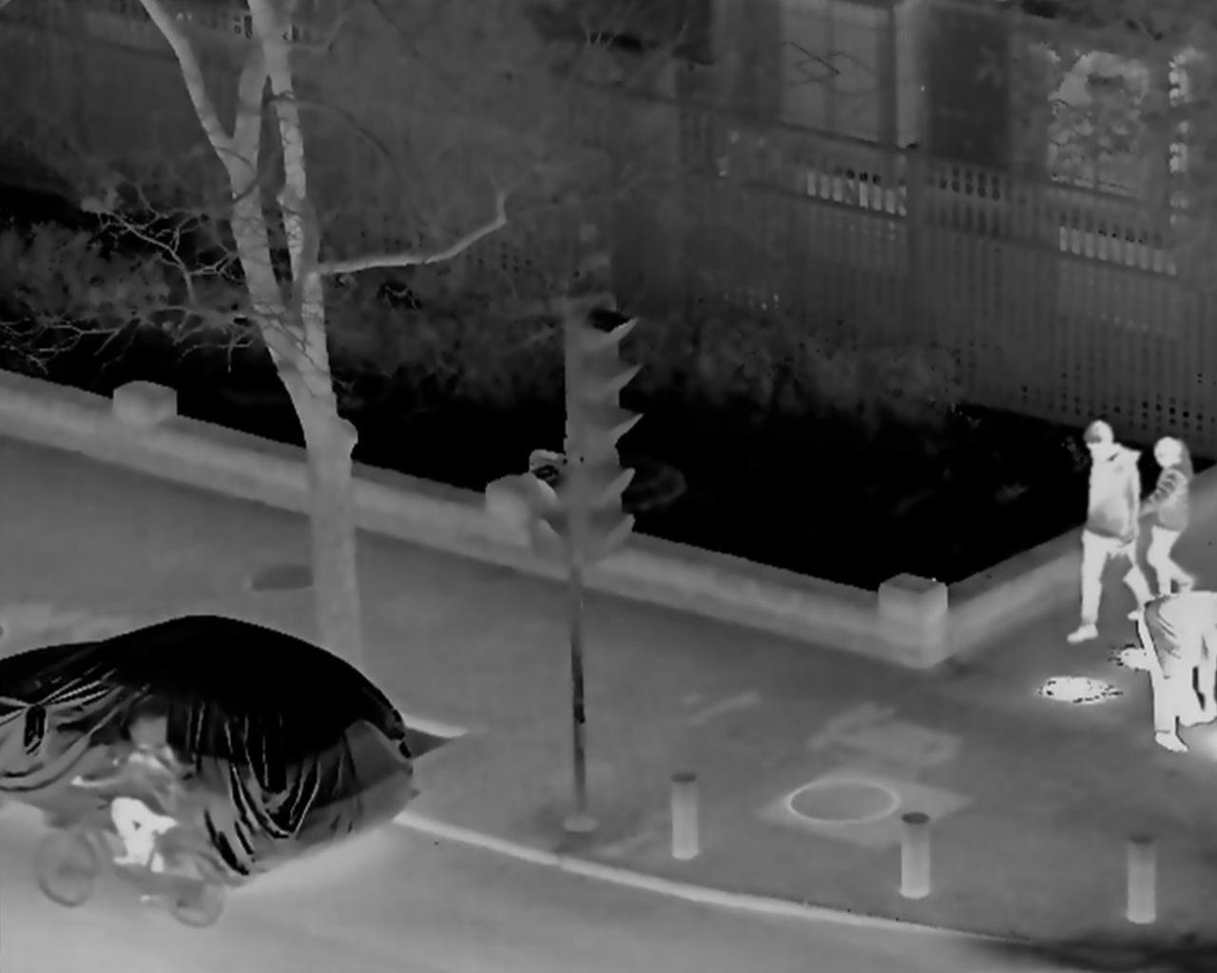person: (72, 710, 184, 895), (1065, 421, 1154, 638), (1137, 588, 1217, 754), (1128, 437, 1194, 608)
